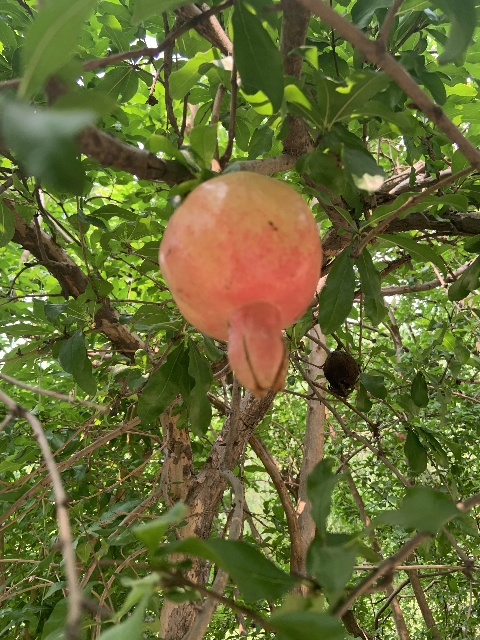ripe: (158, 172, 322, 395)
